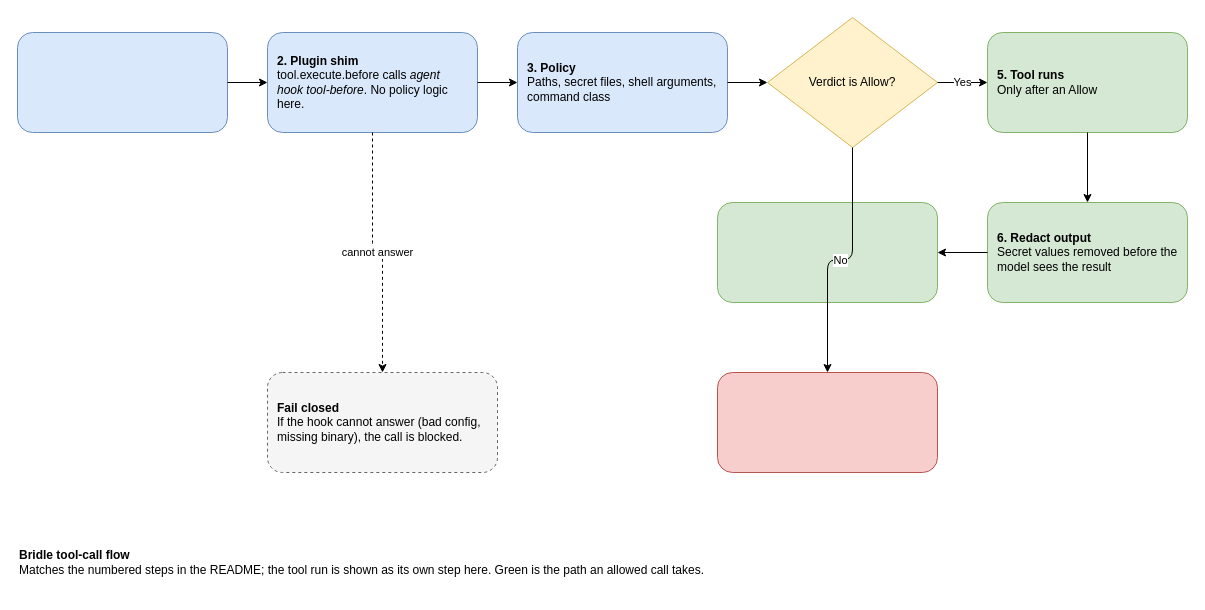
Some shapes in this 1205 by 610 pixel diagram are drawn without their labels. The shapes that lost their labels are listed below. From the top down, each one's centre as x and y in pixels, then its label:
[122,82]: 1. Model asks OpenCode to run a tool (bash, read, edit, or a local-agent_* tool)
[827,252]: 7. Log the decision .local-agent/tool-events.jsonl, no secret values
[827,422]: Blocked Any verdict other than Allow. The reason goes back to the model.
